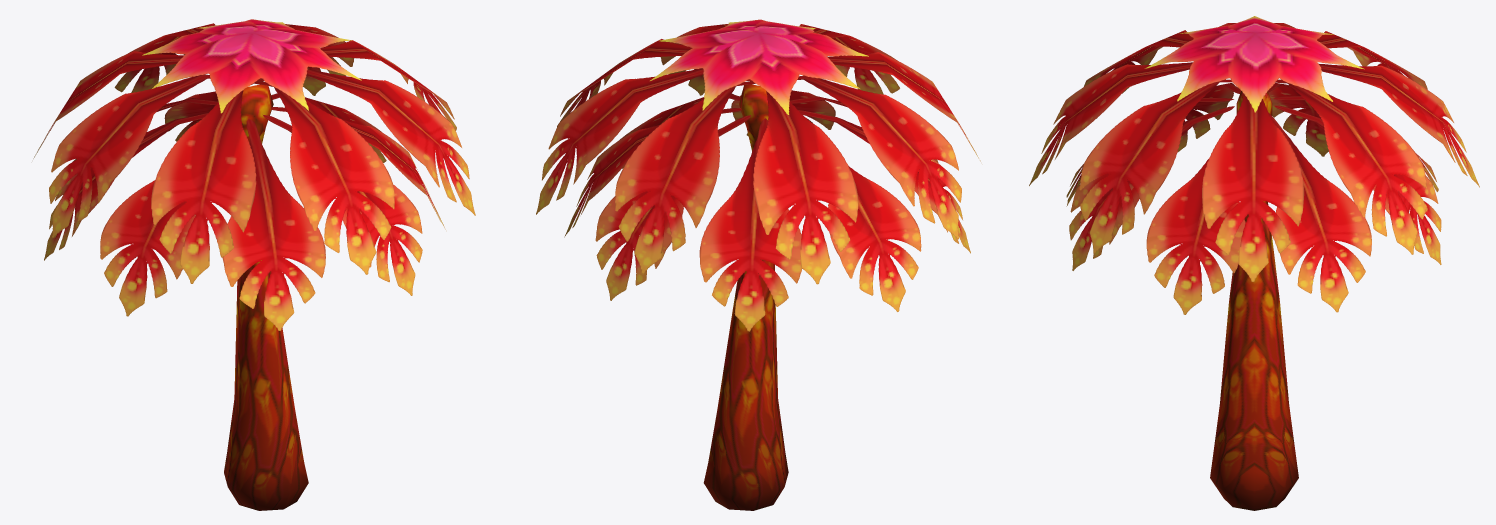
The model's file is Red_Tree_05c.FBX.
3 renders of one model, left to right at view 1: azimuth 30°, elevation 25°; view 2: azimuth 150°, elevation 25°; view 3: azimuth 270°, elevation 25°, orthographic. The views are drawn at different scales.
Visible parts, largest first — view 1: Red_Tree_05c; view 2: Red_Tree_05c; view 3: Red_Tree_05c.
Boxes of the visible parts, x1,y1,x2,y2 form: Red_Tree_05c: (33, 19, 475, 510); Red_Tree_05c: (536, 19, 980, 510); Red_Tree_05c: (1029, 16, 1479, 510).
Size of the model in its own units: 256 by 285 by 256.
